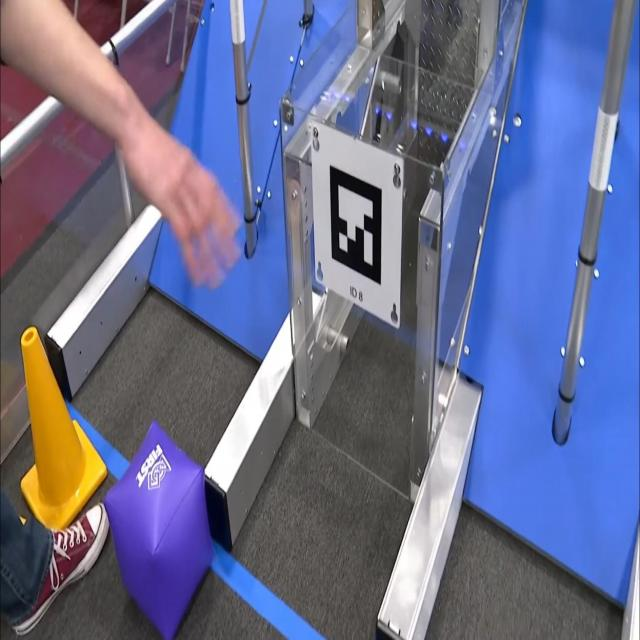frc_cone: (18, 316, 106, 539)
frc_cube: (99, 423, 216, 640)
